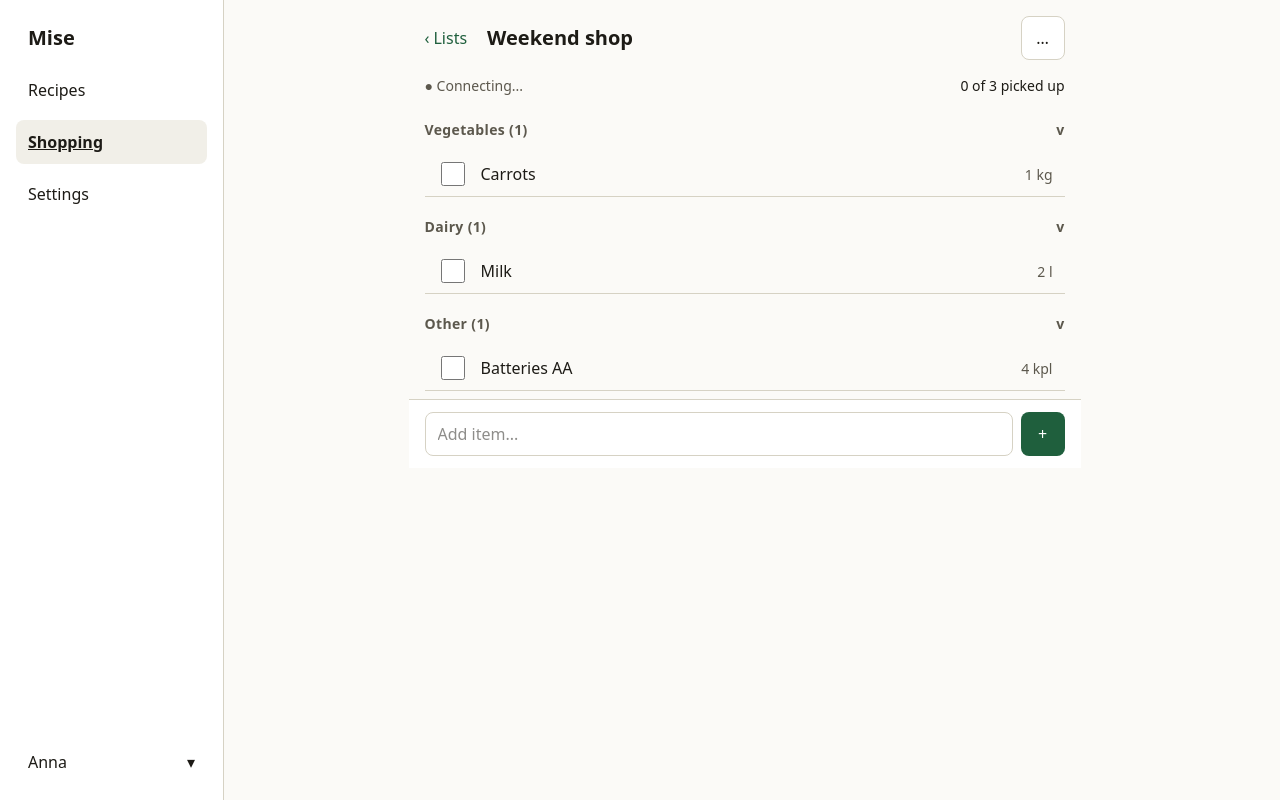
Test: list view (FR-36, FR-37, AC-08) › FR-37: checkoff is optimistic and moves the row to Picked up at once (desired state)
Expected: the text "Milk" is shown, x1=480 y1=259 x2=512 y2=283
Step 1. Click the 2nd checkbox with test id "item-checkbox" → x=452, y=271, box x1=440 y1=259 x2=464 y2=283
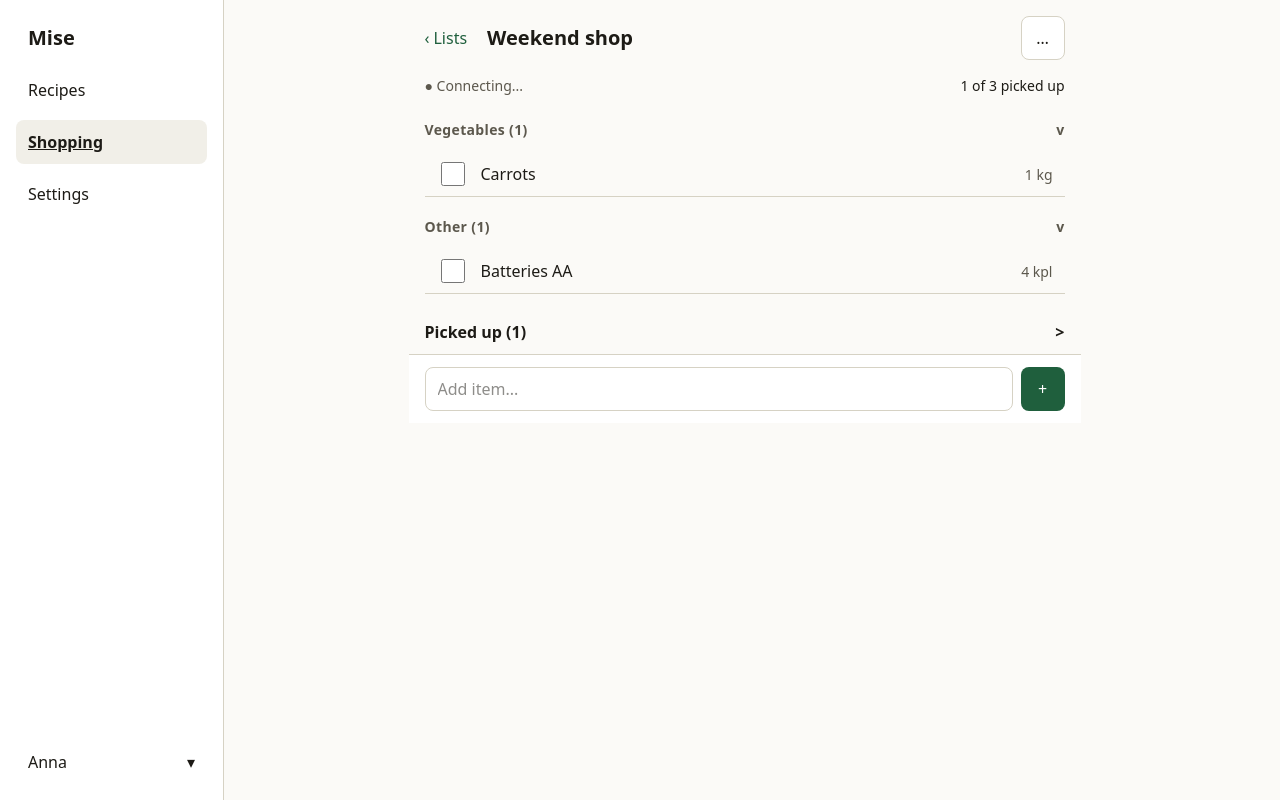
Expected: the text with test id "list-progress" reads "1 of 3 picked up", x1=960 y1=76 x2=1064 y2=95
Expected: the button "Picked up (1) >" is shown
expanded: still grouped by category, struck through, checkbox checked
Step 2. Click the button "Picked up (1) >" → x=475, y=332, box x1=424 y1=310 x2=1064 y2=354
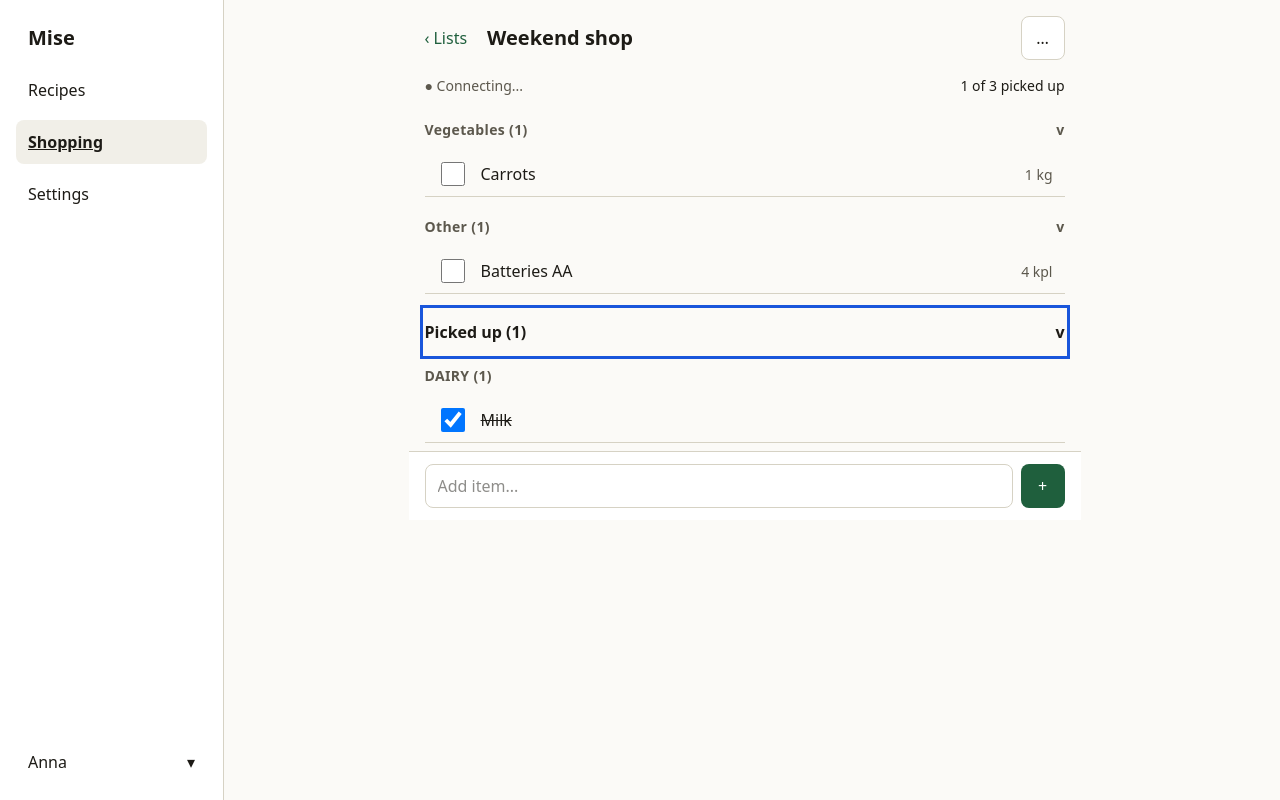
Expected: the 3rd checkbox with test id "item-checkbox" is checked, x1=440 y1=408 x2=464 y2=432
Expected: the heading "Dairy (1)" is shown, x1=424 y1=366 x2=492 y2=385
